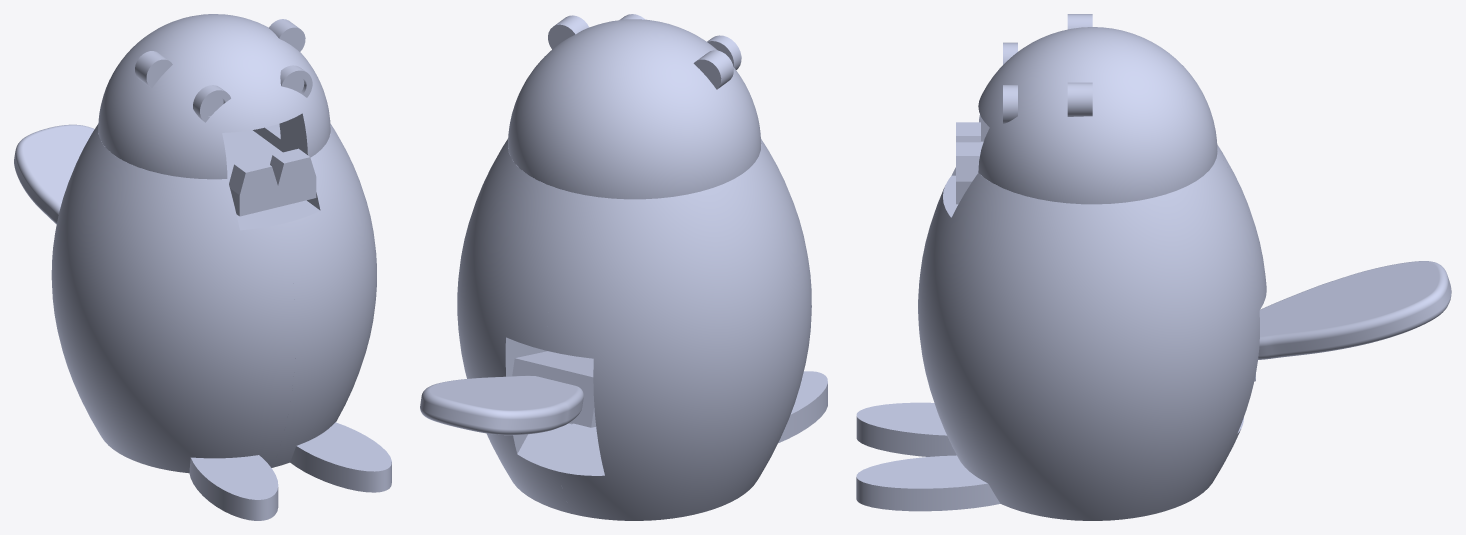
Rendered from Beaver.glb.
The picture shows the model from 3 angles, left to right: view 1: azimuth 30°, elevation 25°; view 2: azimuth 150°, elevation 25°; view 3: azimuth 270°, elevation 25°; orthographic projection. The views are drawn at different scales.
Visible parts, largest first — view 1: LEFT-1, Head-1, RIGHT-1, Teeth-1, Tail-1; view 2: LEFT-1, Head-1, RIGHT-1, Tail-1; view 3: RIGHT-1, Head-1, Tail-1, LEFT-1, Teeth-1.
Part boxes in pixels (left/top/right/bottom): LEFT-1: left=51, top=124, right=295, bottom=520; Head-1: left=98, top=14, right=330, bottom=179; RIGHT-1: left=253, top=123, right=391, bottom=492; Teeth-1: left=222, top=130, right=316, bottom=216; Tail-1: left=14, top=124, right=94, bottom=224; LEFT-1: left=546, top=139, right=827, bottom=520; Head-1: left=508, top=14, right=761, bottom=199; RIGHT-1: left=457, top=139, right=596, bottom=513; Tail-1: left=420, top=351, right=595, bottom=435; RIGHT-1: left=856, top=152, right=1266, bottom=520; Head-1: left=978, top=14, right=1217, bottom=204; Tail-1: left=1254, top=261, right=1451, bottom=381; LEFT-1: left=856, top=130, right=1265, bottom=456; Teeth-1: left=956, top=122, right=983, bottom=204.
Bounding box in the file's own units: 0.0699 × 0.095 × 0.1192.
